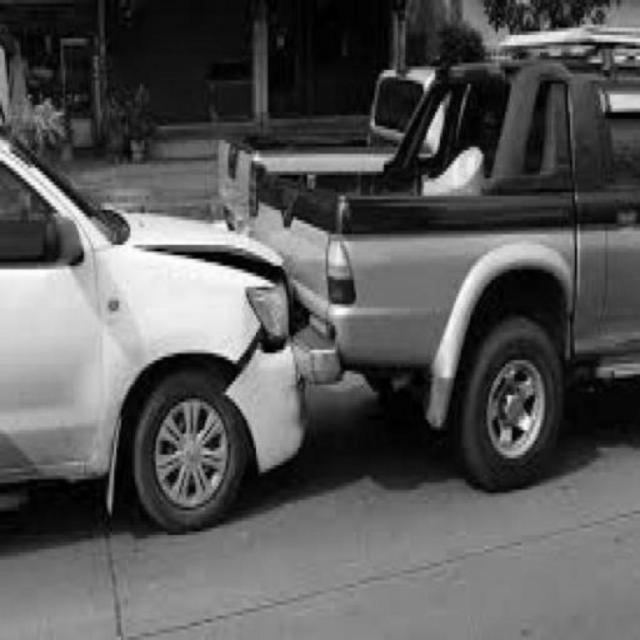accident: (2, 78, 638, 522)
